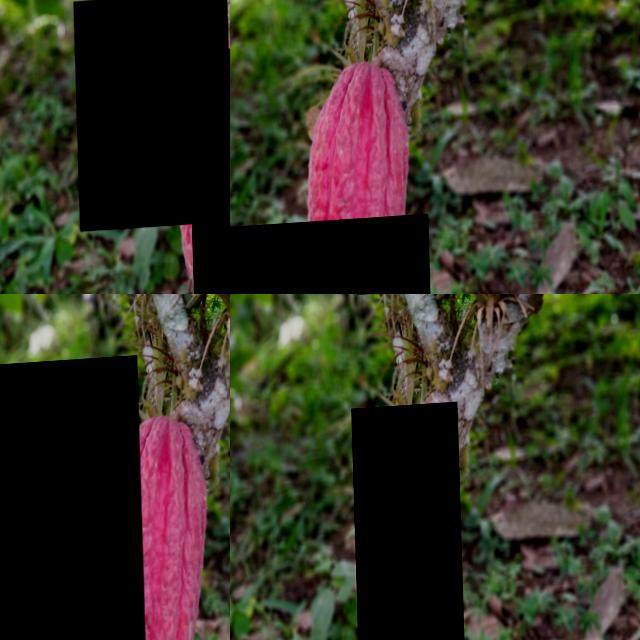Fitoftora: (0, 359, 147, 640), (73, 0, 230, 233), (185, 50, 230, 294)
Sana: (350, 406, 463, 640)
